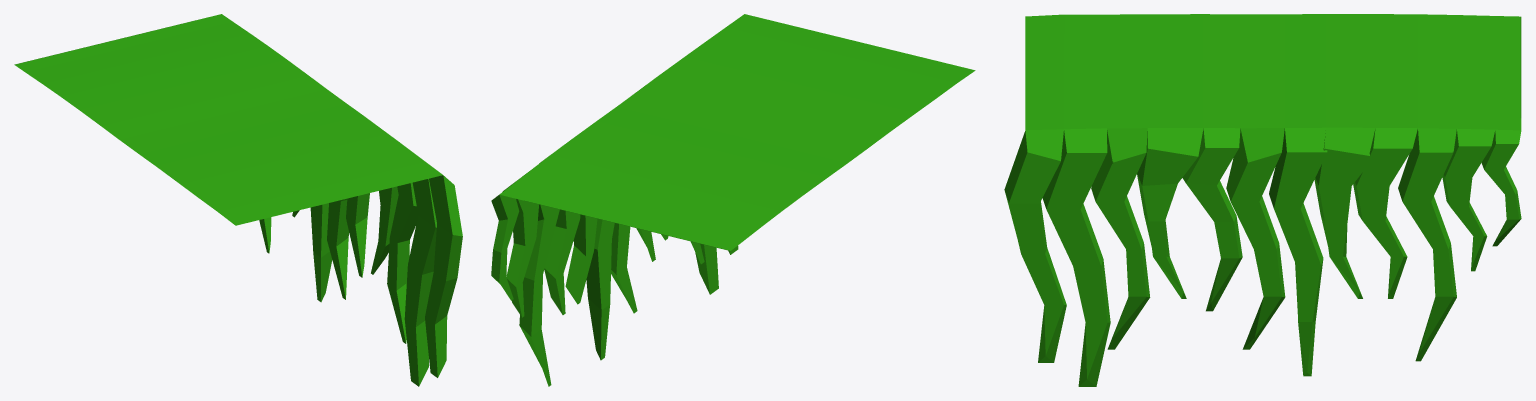
File: fbLian.fbx
3 views of the same model, side by side, from view 1: azimuth 30°, elevation 25°; view 2: azimuth 150°, elevation 25°; view 3: azimuth 270°, elevation 25° (orthographic). The views are drawn at different scales.
Visible parts, largest first — view 1: Plane; view 2: Plane; view 3: Plane.
Boxes of the visible parts, <box> form: Plane: <box>14,14,462,386</box>; Plane: <box>491,14,975,386</box>; Plane: <box>1004,14,1521,386</box>.
Size of the model in its own units: 203 by 202 by 365.
